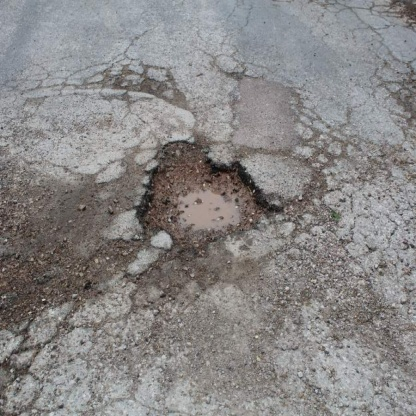pothole: (126, 127, 289, 271)
